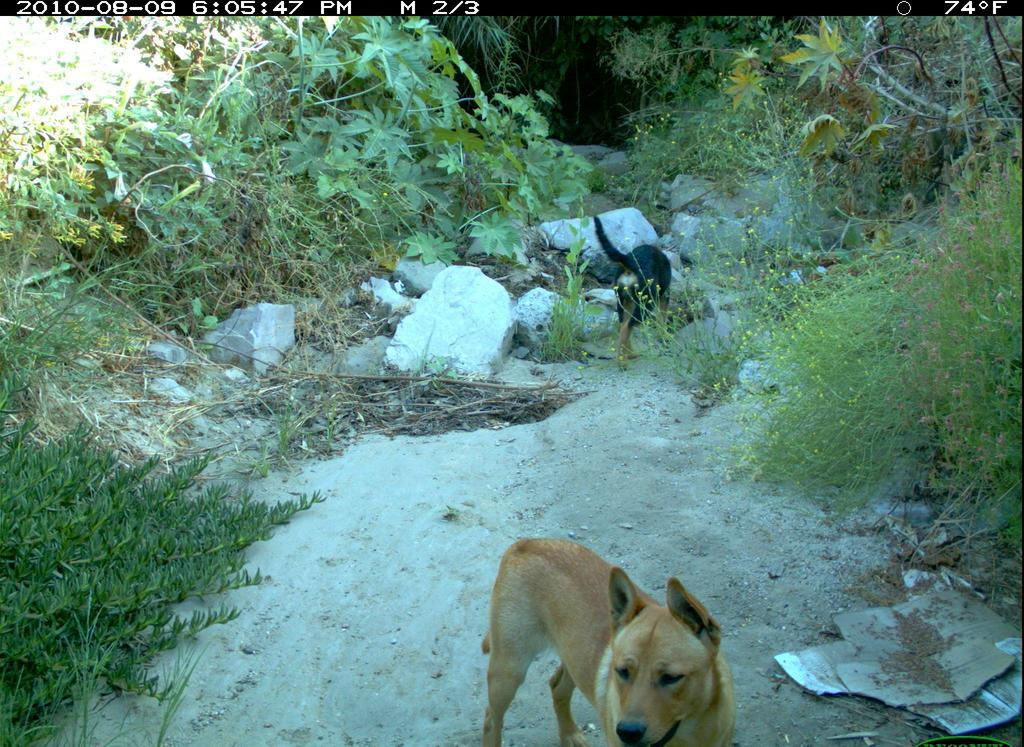dog: (464, 530, 754, 745), (585, 216, 694, 372)
